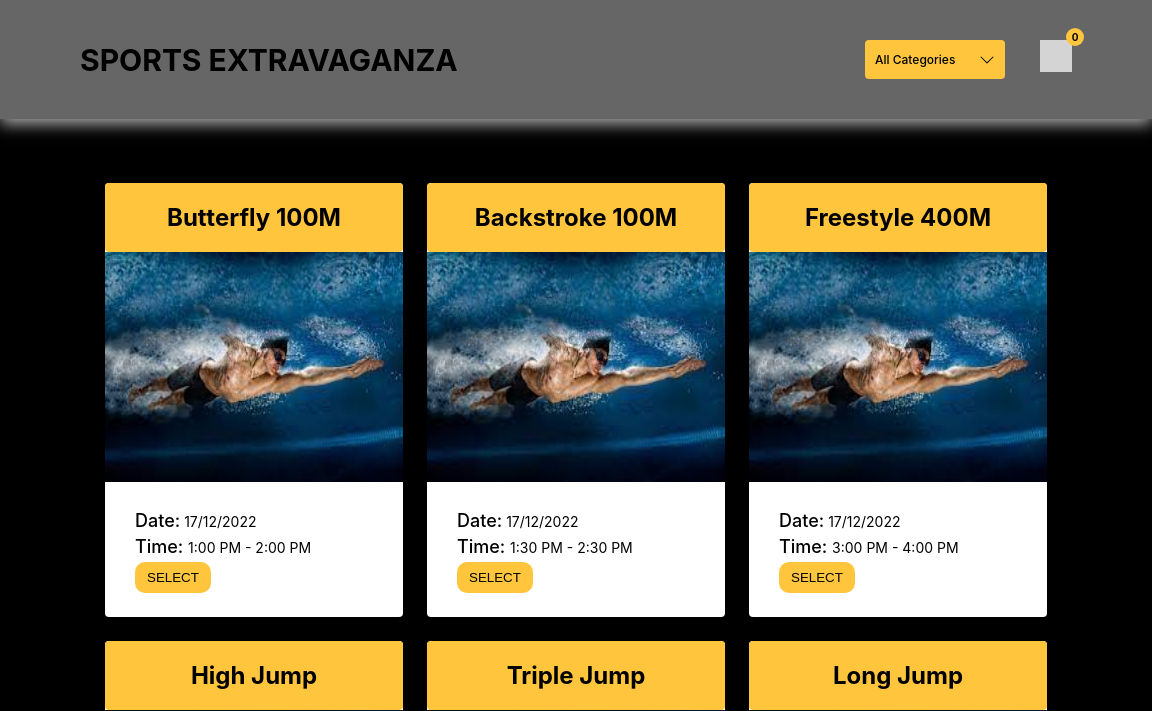
it: Main Page › Number of selected events displayed on selecting events
The width and height of the screenshot is (1152, 711).
Expected: the text "Butterfly 100M" is shown, [105,183,403,252]
Click the 1st button "SELECT". click: (173, 578)
box: [135,562,211,593]
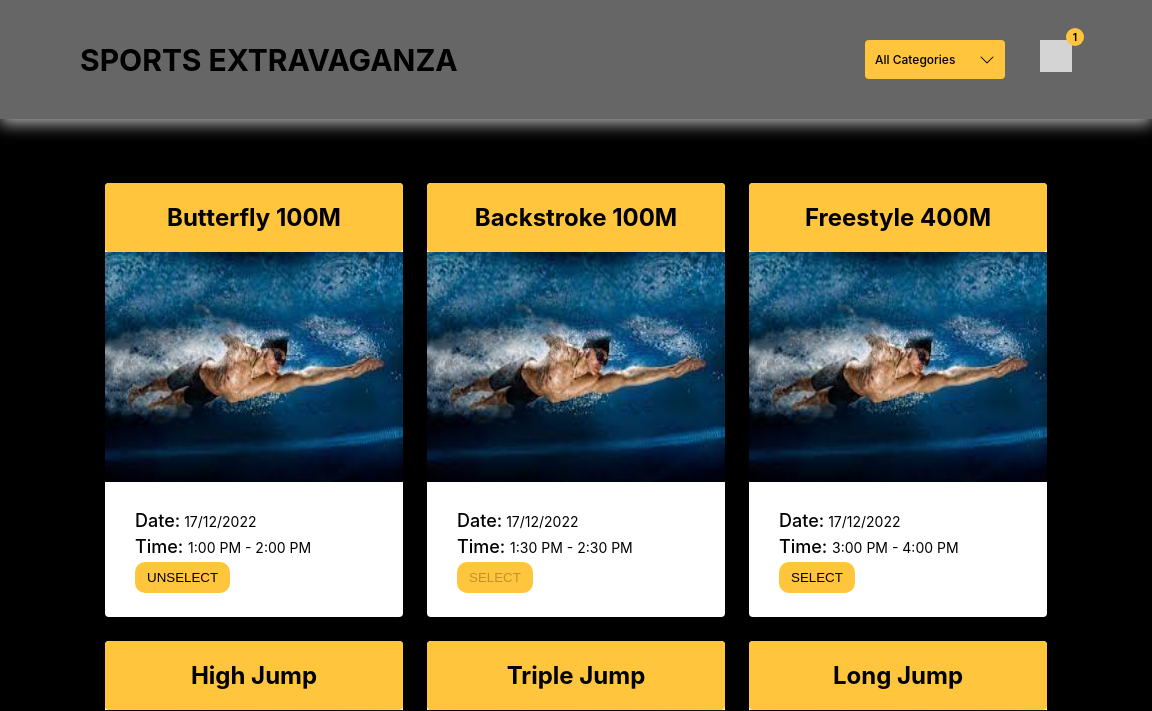
Expected: the icon with test id "icon_notification" reads "1", [1073,31,1077,43]
